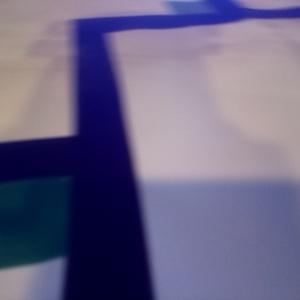bottom_left: (1, 142, 125, 269)
top_left: (168, 1, 231, 22)
